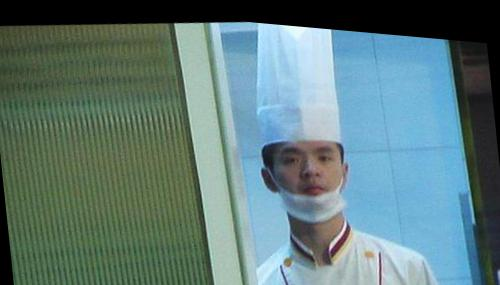WRONG: (274, 133, 350, 219)
